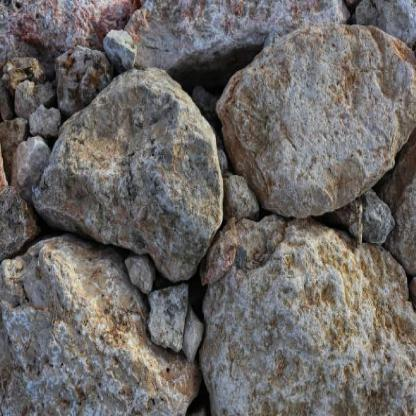Sedimentary_Limestone: (202, 215, 415, 415), (38, 60, 224, 288), (218, 16, 415, 225), (0, 230, 201, 415), (51, 46, 118, 125), (122, 244, 163, 298), (13, 136, 52, 186), (182, 310, 208, 360)
